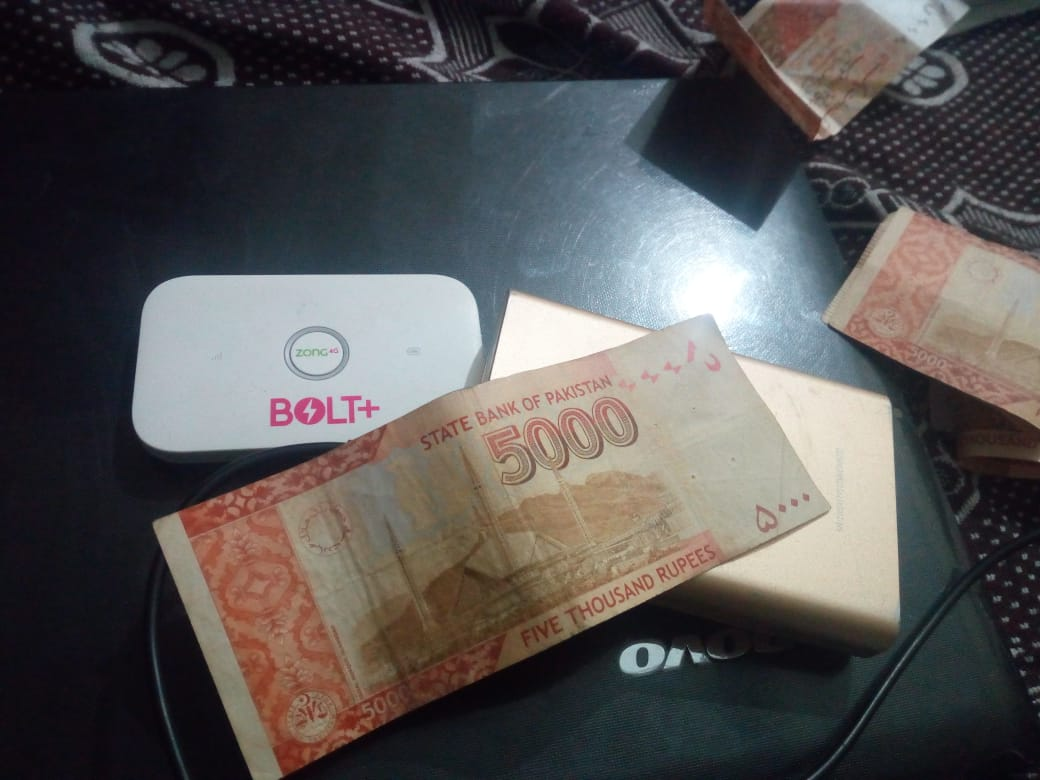5000 rupee: (137, 324, 797, 752)
